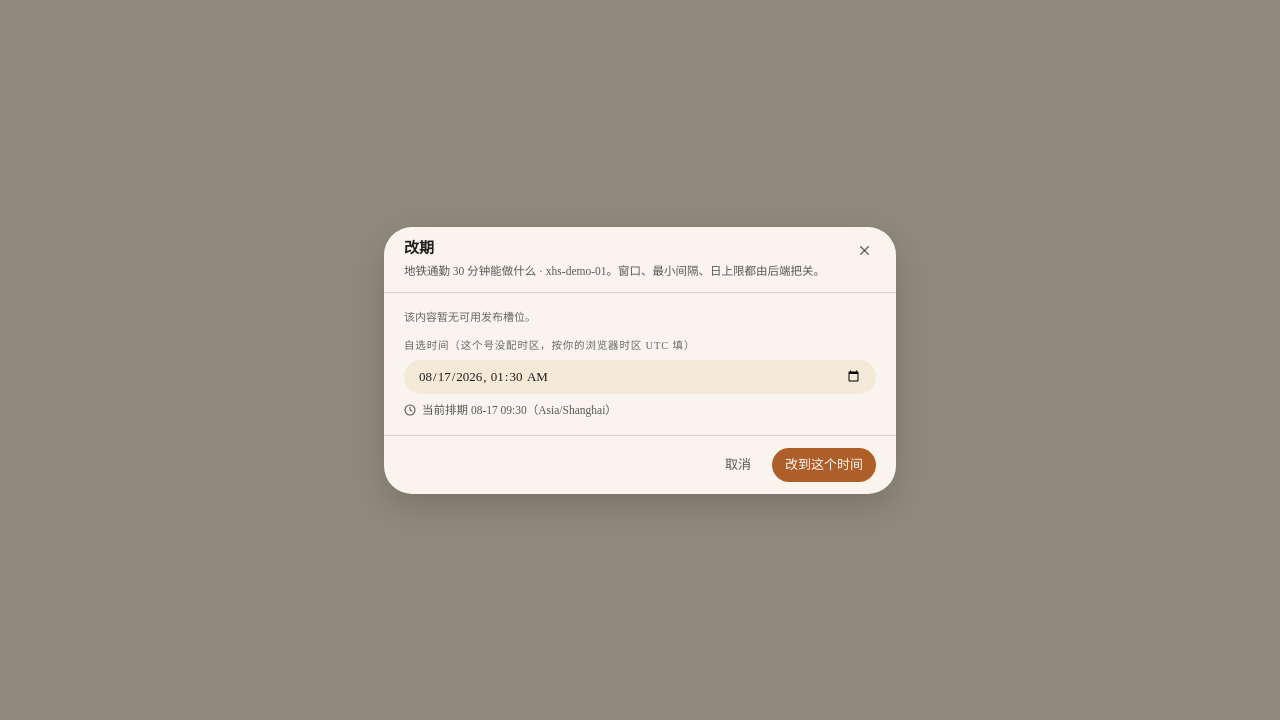
Test: 改期弹窗的槽位建议 › 14 天内算不出槽位时不给按钮，改成一句解释
The width and height of the screenshot is (1280, 720).
Click the button "改到这个时间".
click(824, 464)  # box [772,448,876,482]
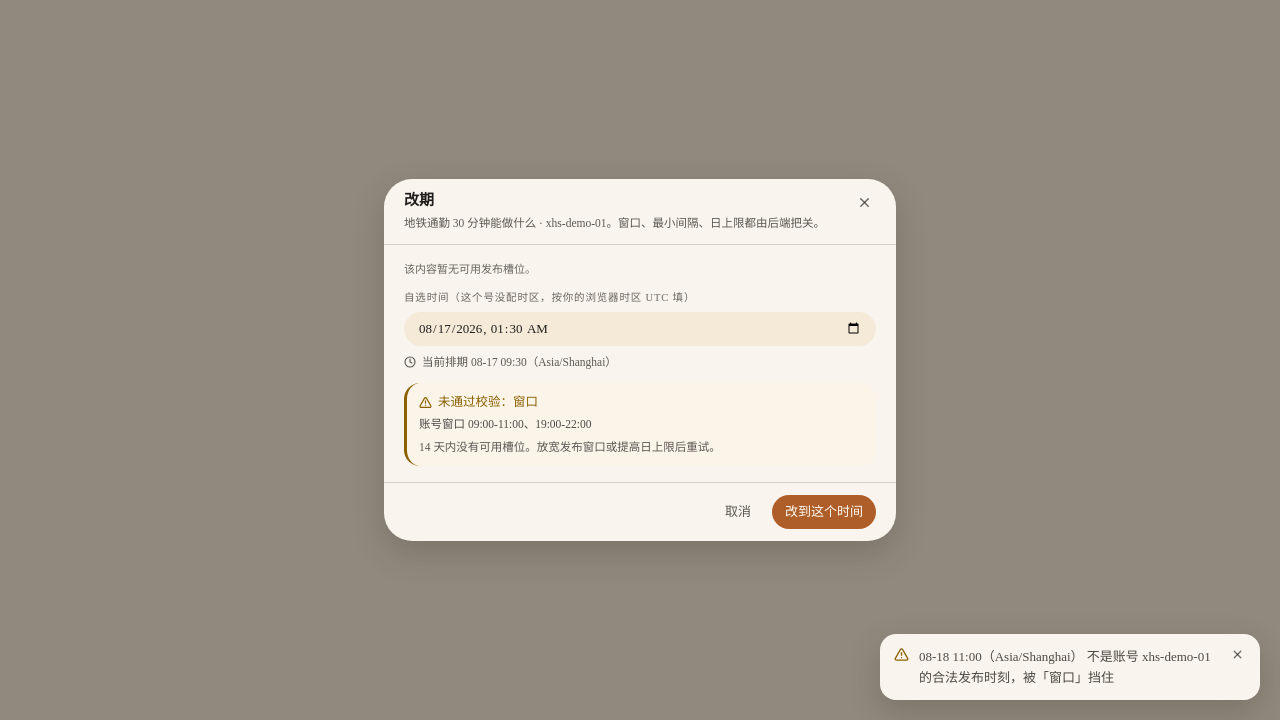
Now the element with test id "slot-hint" is shown, box [404,383,876,466]
Now the text "14 天内没有可用槽位。放宽发布窗口或提高日上限后重试。" is shown, box [419,441,721,453]
